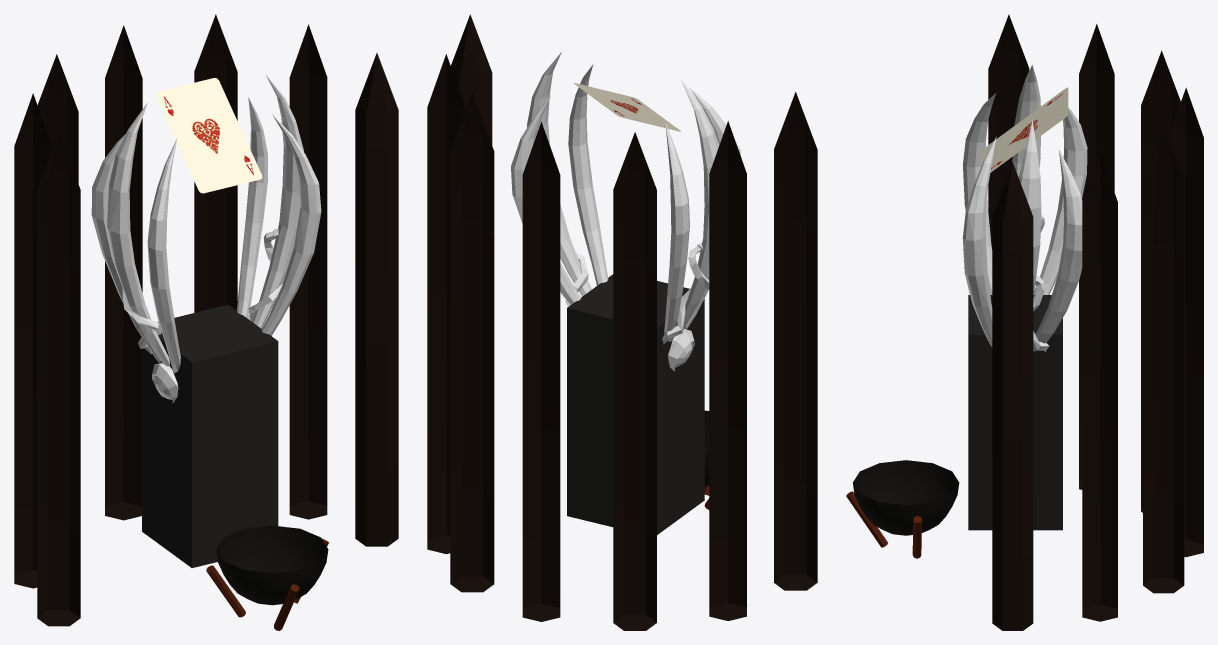
The model's file is EstatuaMagicaColor.fbx.
3 renders of one model, left to right at view 1: azimuth 30°, elevation 25°; view 2: azimuth 150°, elevation 25°; view 3: azimuth 270°, elevation 25°, orthographic. The views are drawn at different scales.
Visible parts, largest first — view 1: Cylinder.008, Cube.001, Object_013, Object_12, Plane013, Sphere.002, Cylinder.011; view 2: Cylinder.008, Cube.001, Object_12, Object_013, Plane013; view 3: Cylinder.008, Cube.001, Object_013, Sphere.002, Object_12, Plane013.
Part boxes in pixels (bbox=[...]): Cylinder.008: bbox=[14, 14, 398, 626]; Cube.001: bbox=[142, 304, 278, 567]; Object_013: bbox=[237, 74, 321, 335]; Object_12: bbox=[91, 102, 180, 403]; Plane013: bbox=[155, 78, 262, 193]; Sphere.002: bbox=[216, 525, 328, 605]; Cylinder.011: bbox=[206, 565, 245, 617]; Cylinder.008: bbox=[427, 14, 817, 630]; Cube.001: bbox=[567, 274, 704, 534]; Object_12: bbox=[662, 80, 741, 371]; Object_013: bbox=[511, 52, 608, 306]; Plane013: bbox=[573, 83, 681, 131]; Cylinder.008: bbox=[988, 14, 1203, 630]; Cube.001: bbox=[968, 295, 1062, 530]; Object_013: bbox=[962, 119, 1082, 351]; Sphere.002: bbox=[853, 460, 959, 535]; Object_12: bbox=[963, 65, 1087, 294]; Plane013: bbox=[980, 87, 1068, 172].
Size of the model in its own units: 45.12 by 59.57 by 41.82.
5 materials, 1 textured.
